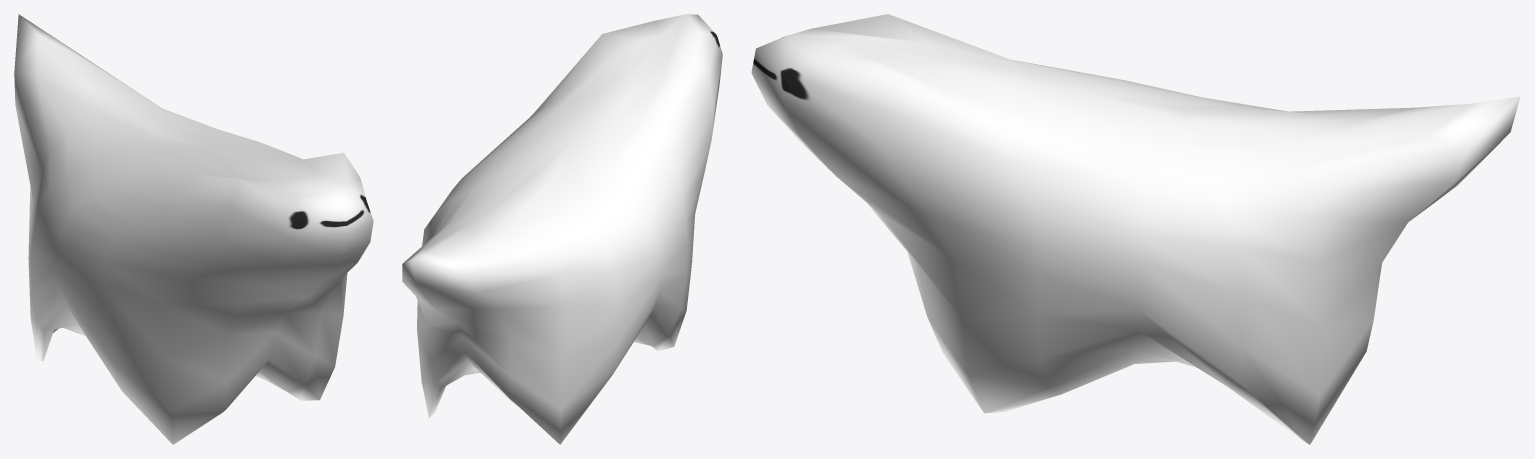
The model's file is animal5.fbx.
The picture shows the model from 3 angles, left to right: view 1: azimuth 30°, elevation 25°; view 2: azimuth 150°, elevation 25°; view 3: azimuth 270°, elevation 25°; orthographic projection. The views are drawn at different scales.
Visible parts, largest first — view 1: 2; view 2: 2; view 3: 2.
Part boxes in pixels (x1=…): 2: x1=14, y1=14, x2=373, y2=444; 2: x1=402, y1=14, x2=722, y2=444; 2: x1=751, y1=14, x2=1520, y2=444.
Size of the model in its own units: 2 by 2.42 by 4.58.
